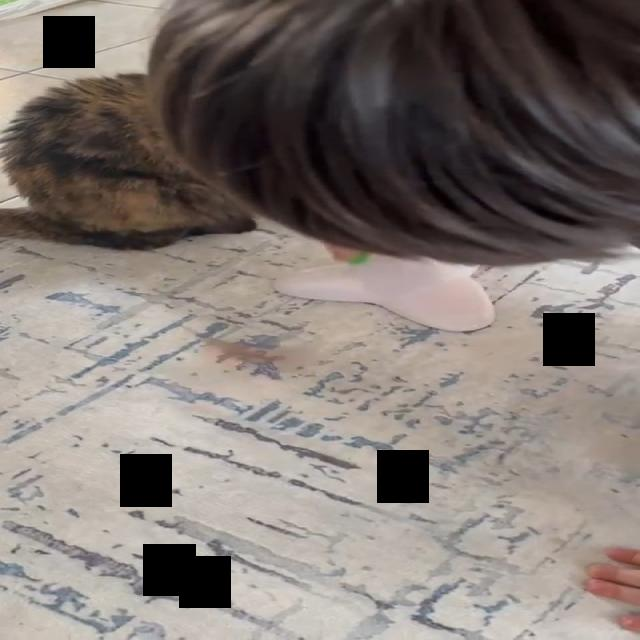authorized: (0, 71, 257, 250)
